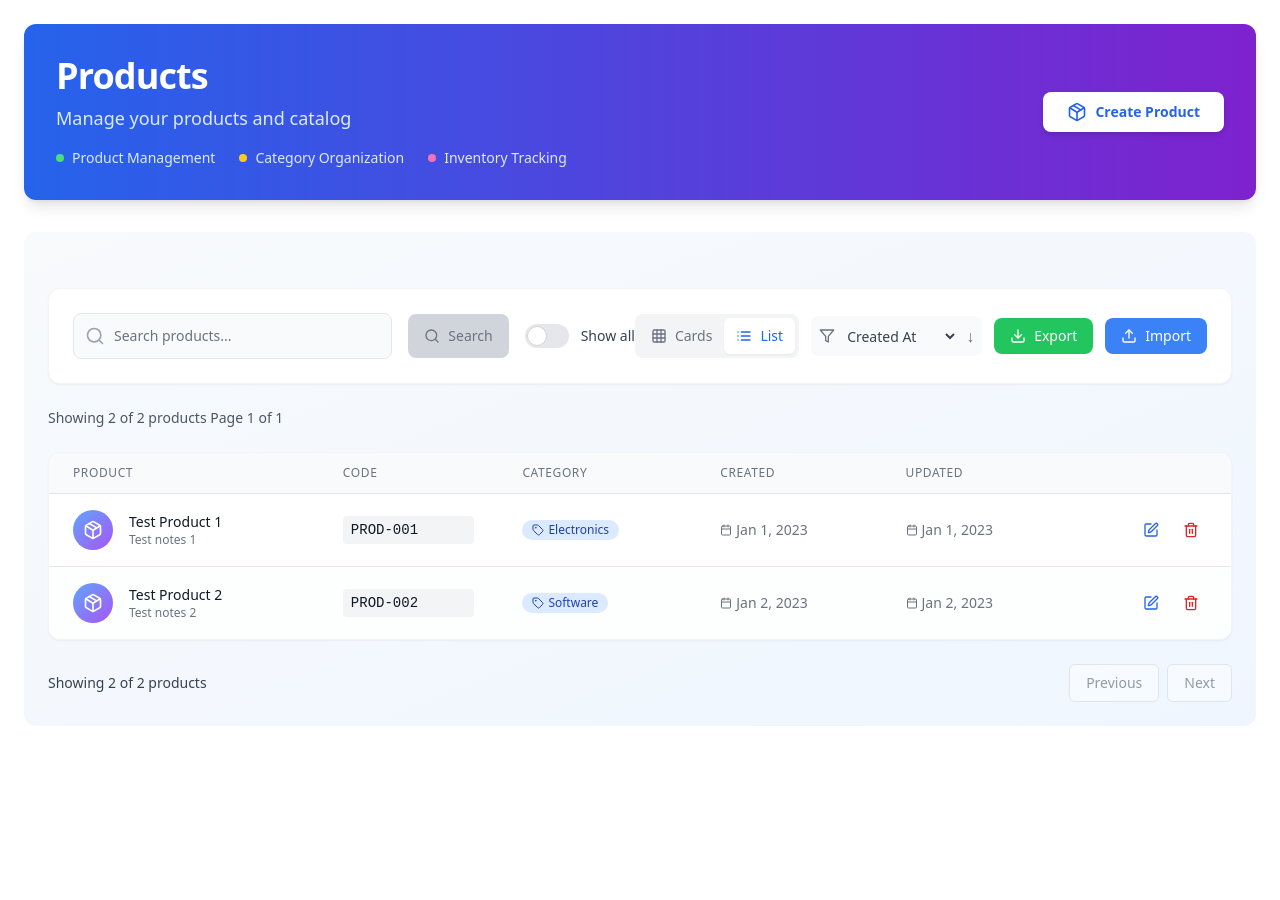
Test: Products Dashboard Page › Edit Product Modal › should open edit modal when edit button is clicked
Click the button named "edit" in the row of "Test Product 1" at (1151, 530), box 1135,514 -> 1167,546
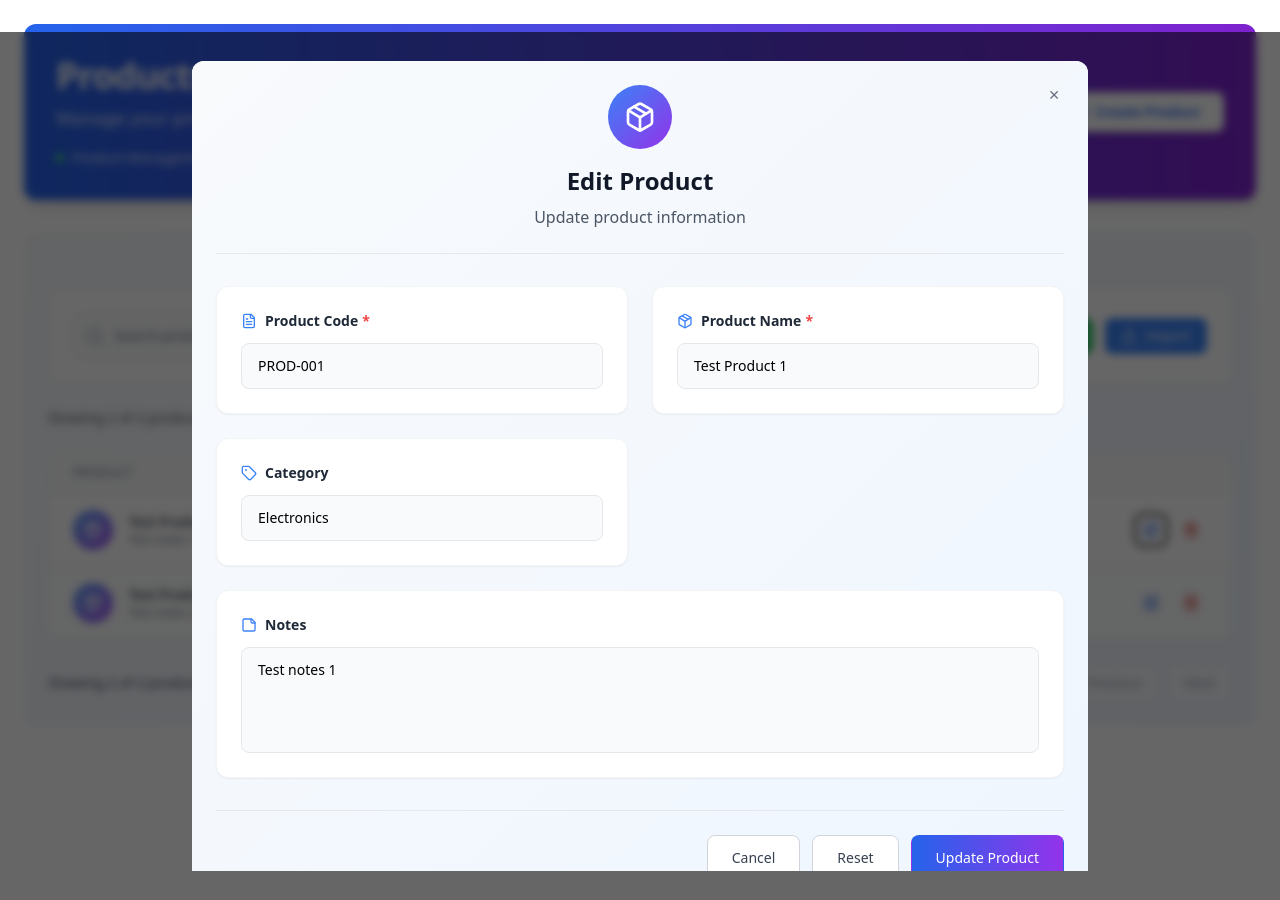
Expected: the dialog is shown
Expected: the heading "Edit Product" is shown, 567,164 -> 713,197
